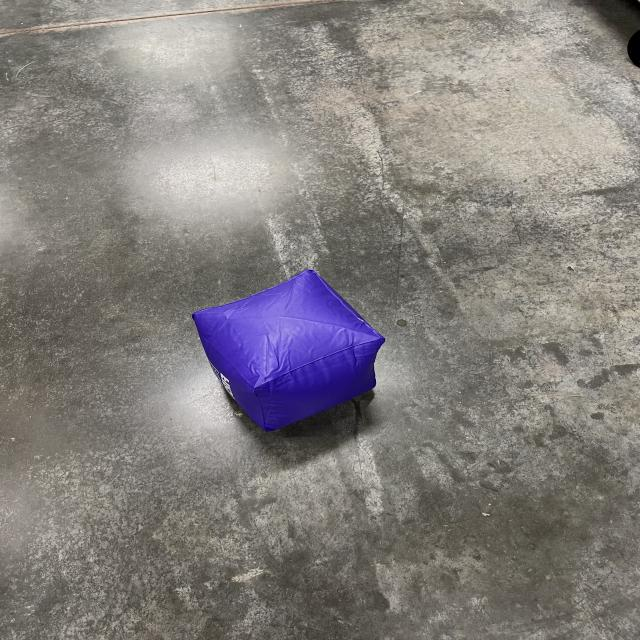frc_cube: (191, 268, 385, 432)
